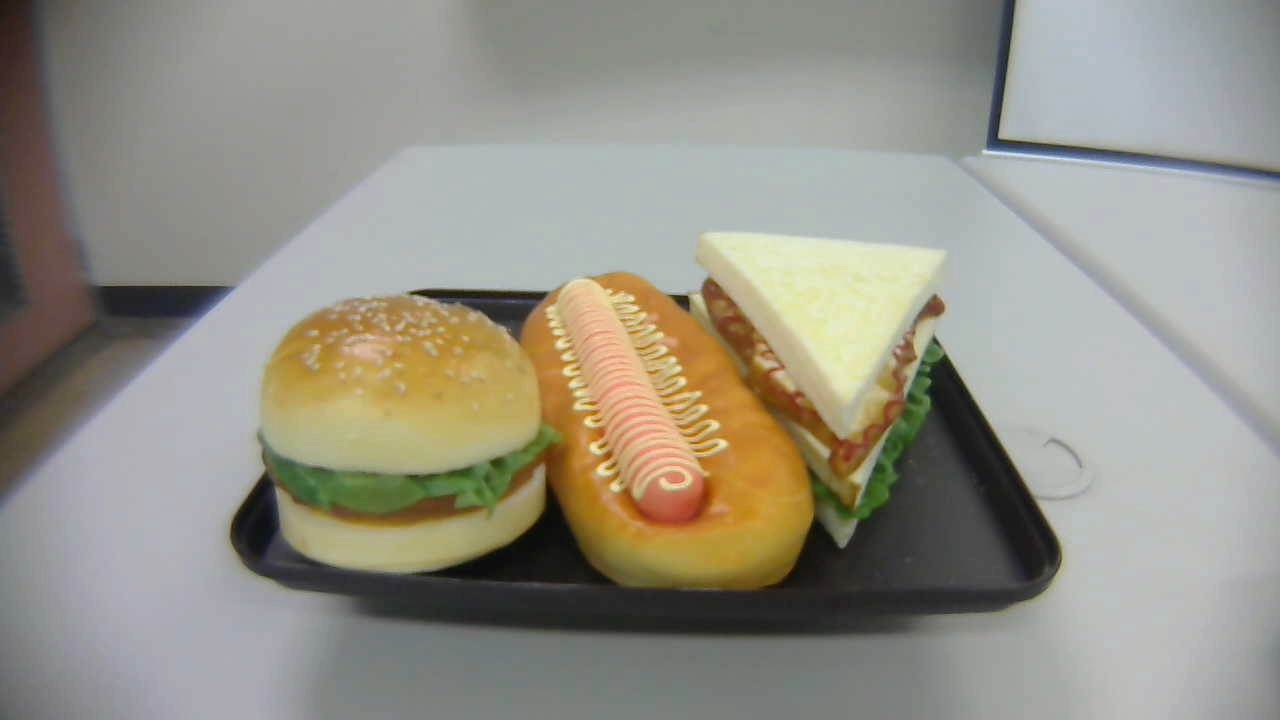hamburger: (257, 293, 548, 579)
hot dog: (520, 272, 814, 592)
sandwich: (687, 230, 951, 550)
